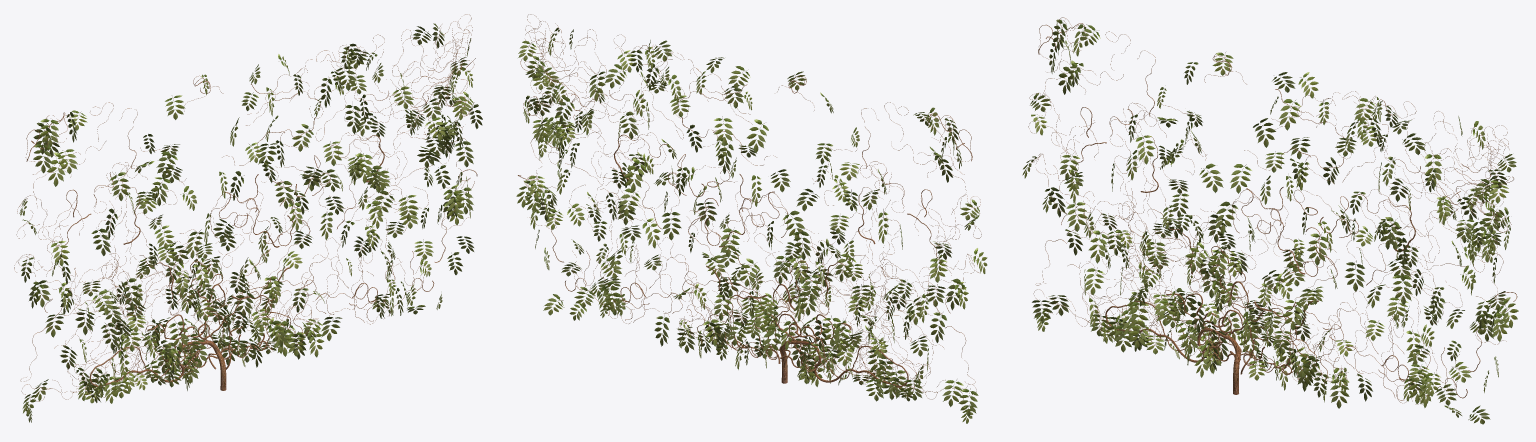
The model's file is liana_wall.gltf.
The picture shows the model from 3 angles, left to right: view 1: azimuth 30°, elevation 25°; view 2: azimuth 150°, elevation 25°; view 3: azimuth 330°, elevation 25°; orthographic projection. The views are drawn at different scales.
Visible parts, largest first — view 1: visteria_wall_01; view 2: visteria_wall_01; view 3: visteria_wall_01.
Boxes of the visible parts, bbox=[...] form: visteria_wall_01: bbox=[14, 14, 482, 422]; visteria_wall_01: bbox=[516, 14, 987, 423]; visteria_wall_01: bbox=[1022, 17, 1518, 424].
Bounding box in the file's own units: 5.19 × 3.45 × 0.4605.
2 materials, 2 textured.
